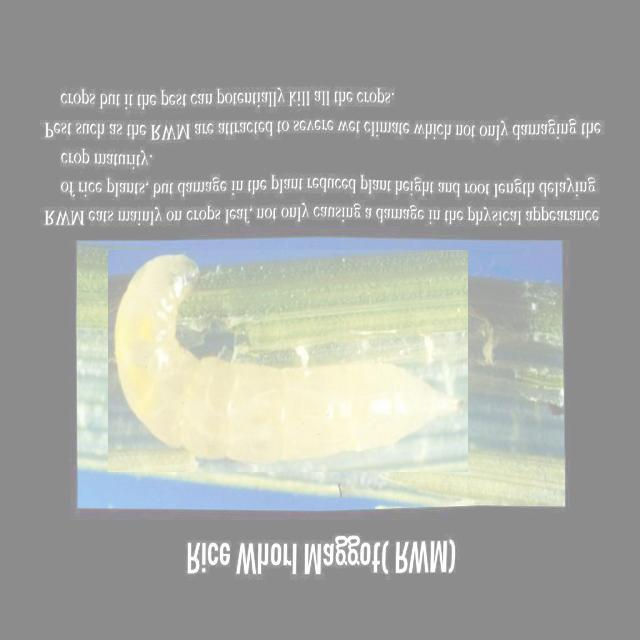whorl-maggot: (108, 250, 468, 472)
